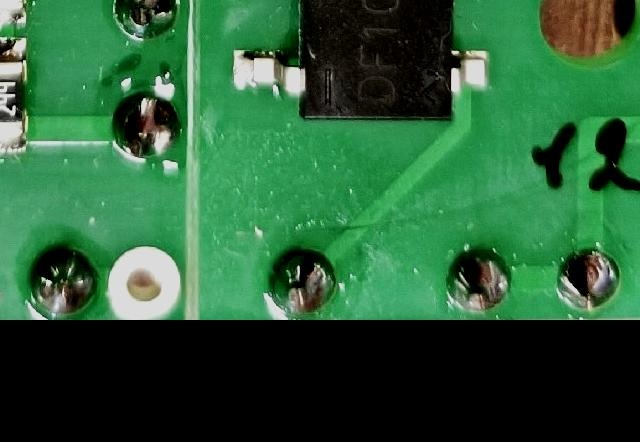chip-resistor: (0, 35, 29, 157)
ic: (224, 0, 493, 128)
